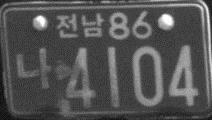0: (132, 45, 164, 108)
1: (105, 44, 123, 109)
4: (63, 46, 97, 110), (166, 42, 199, 107)
6: (132, 9, 153, 41)
8: (108, 11, 130, 41)
나: (14, 46, 52, 91)
전남_O: (54, 11, 105, 39)
